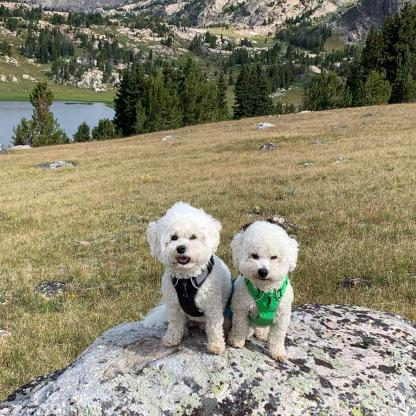Bichon Frise: (141, 203, 231, 358), (223, 212, 308, 366)
